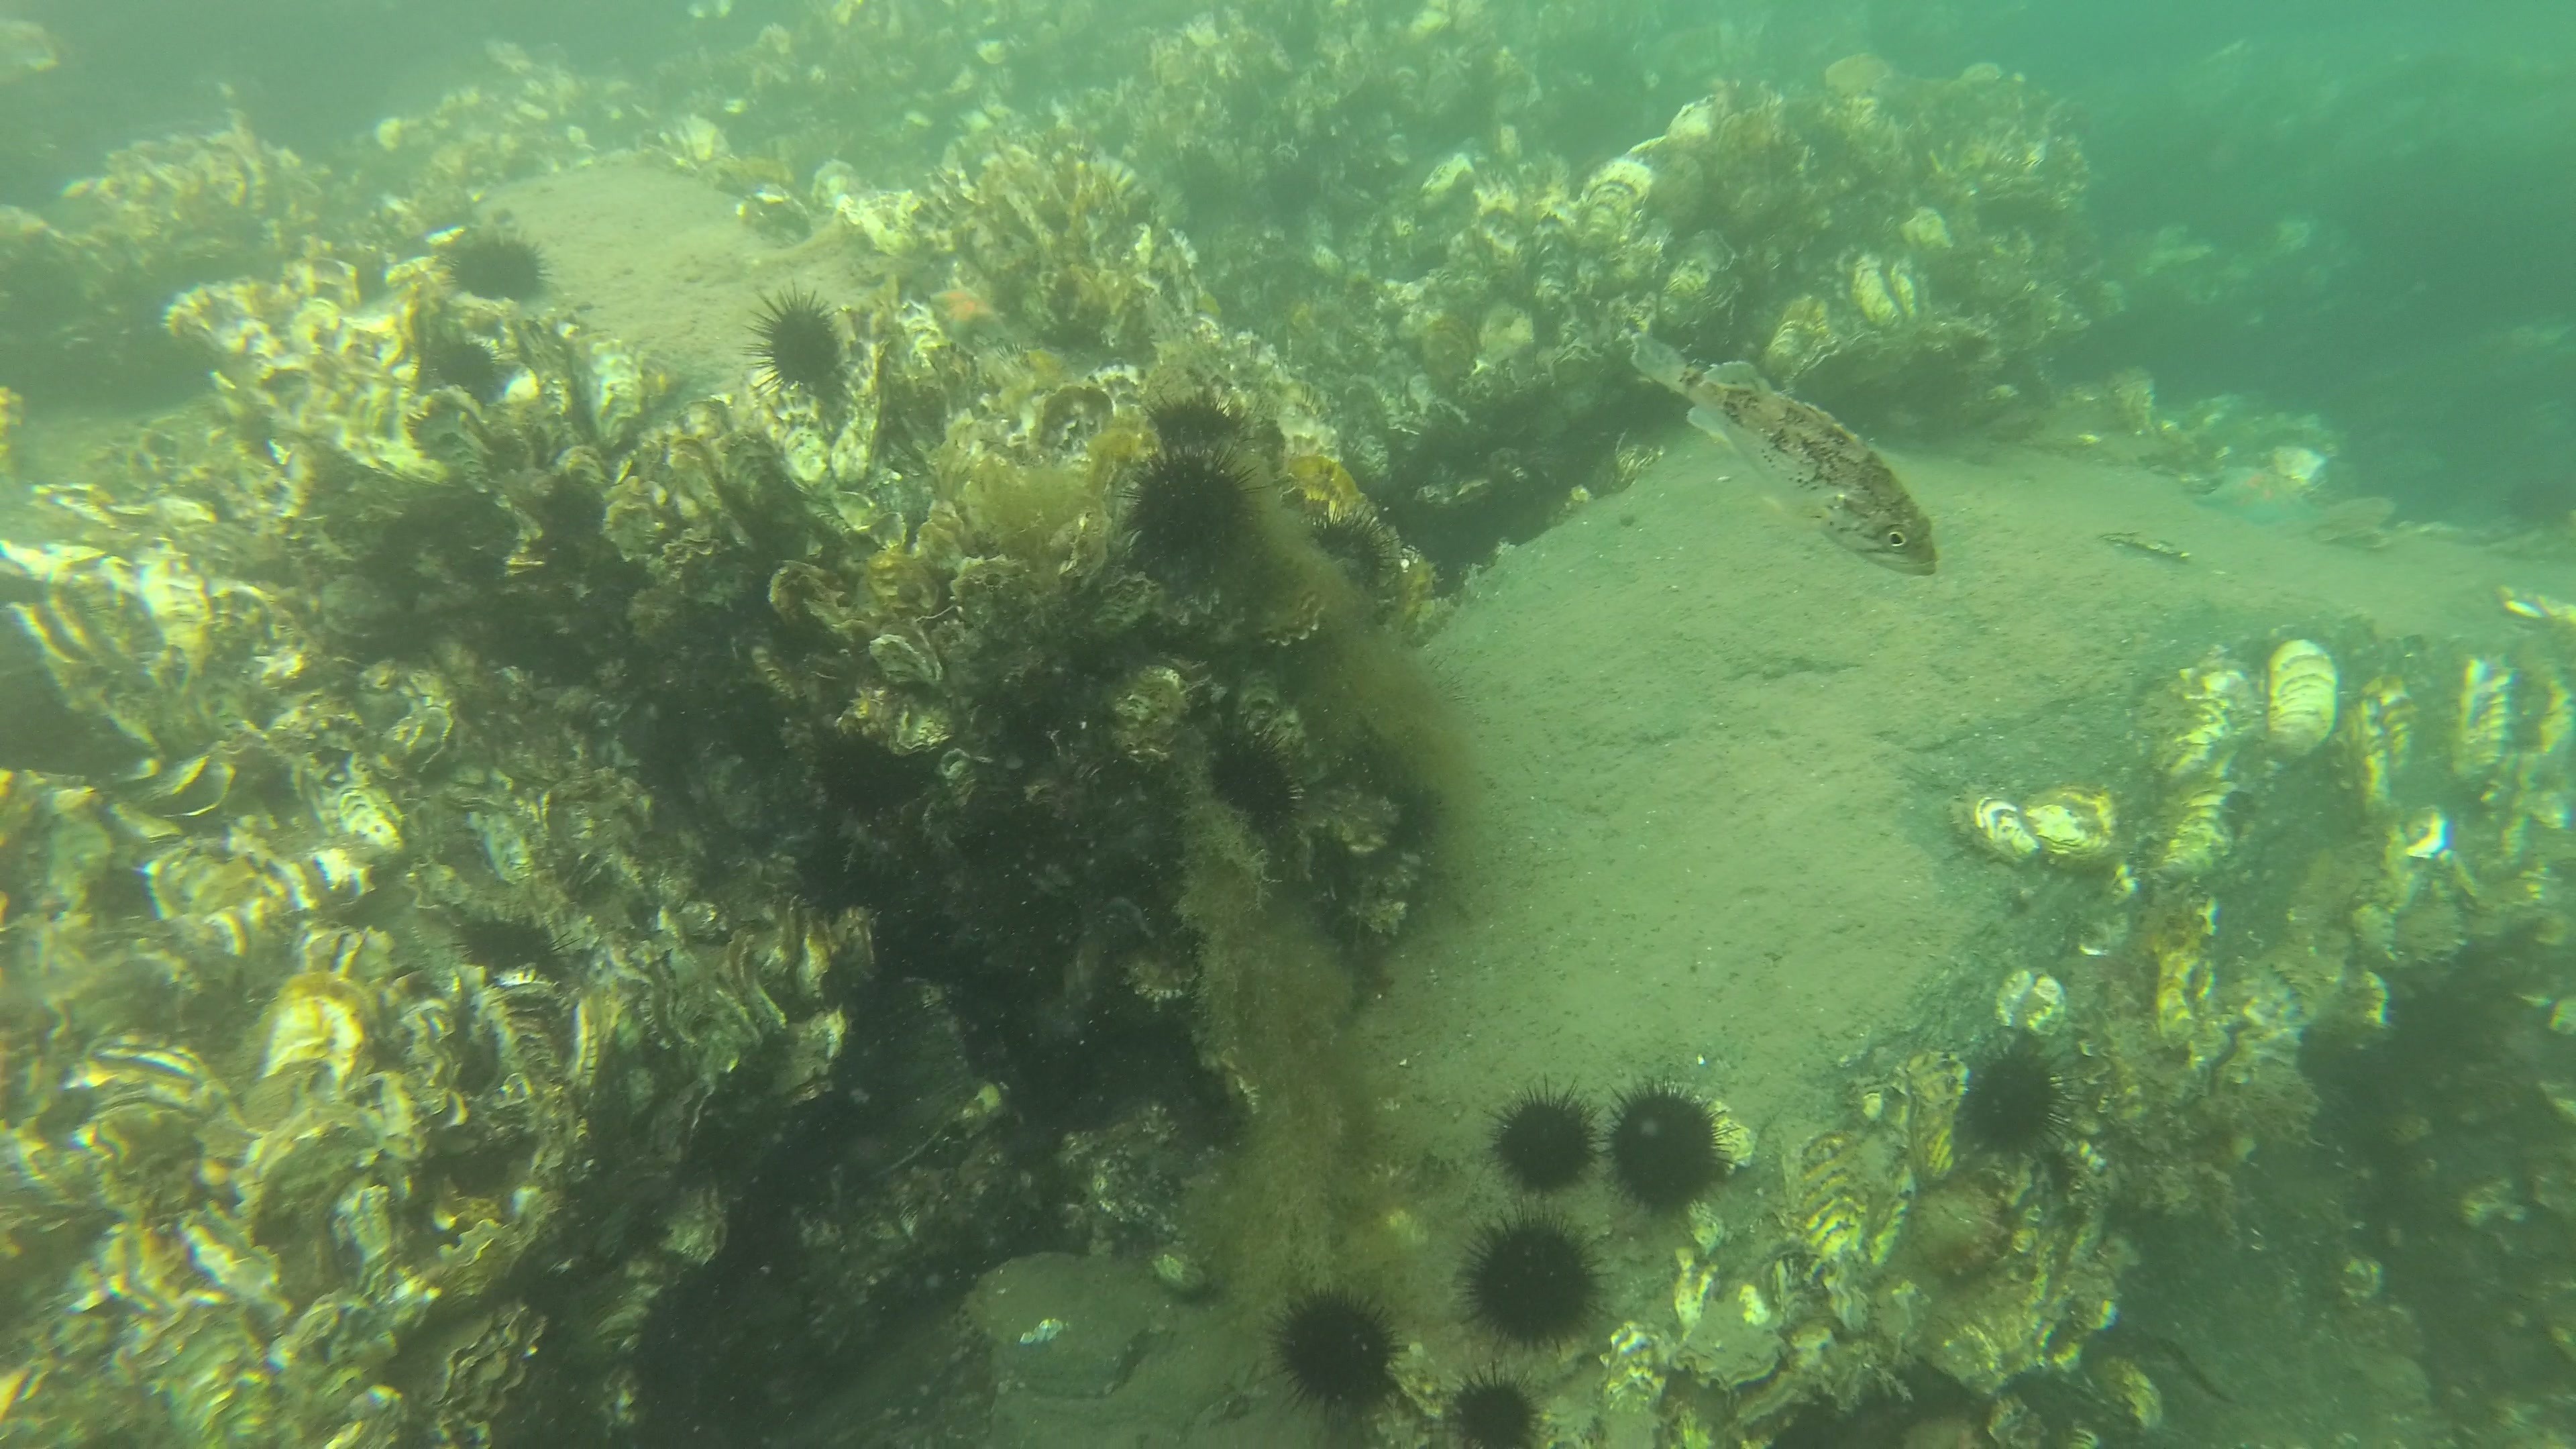echinus: (1445, 1208, 1621, 1371), (1261, 1277, 1422, 1430), (1606, 1074, 1736, 1226), (1120, 437, 1253, 566), (1962, 1030, 2074, 1173), (1488, 1072, 1608, 1205), (741, 280, 853, 398), (1198, 725, 1306, 844), (1297, 497, 1399, 602), (441, 219, 552, 311), (1438, 1375, 1559, 1444), (1141, 384, 1246, 446)
starfish: (2196, 449, 2328, 534), (924, 280, 1023, 345)
